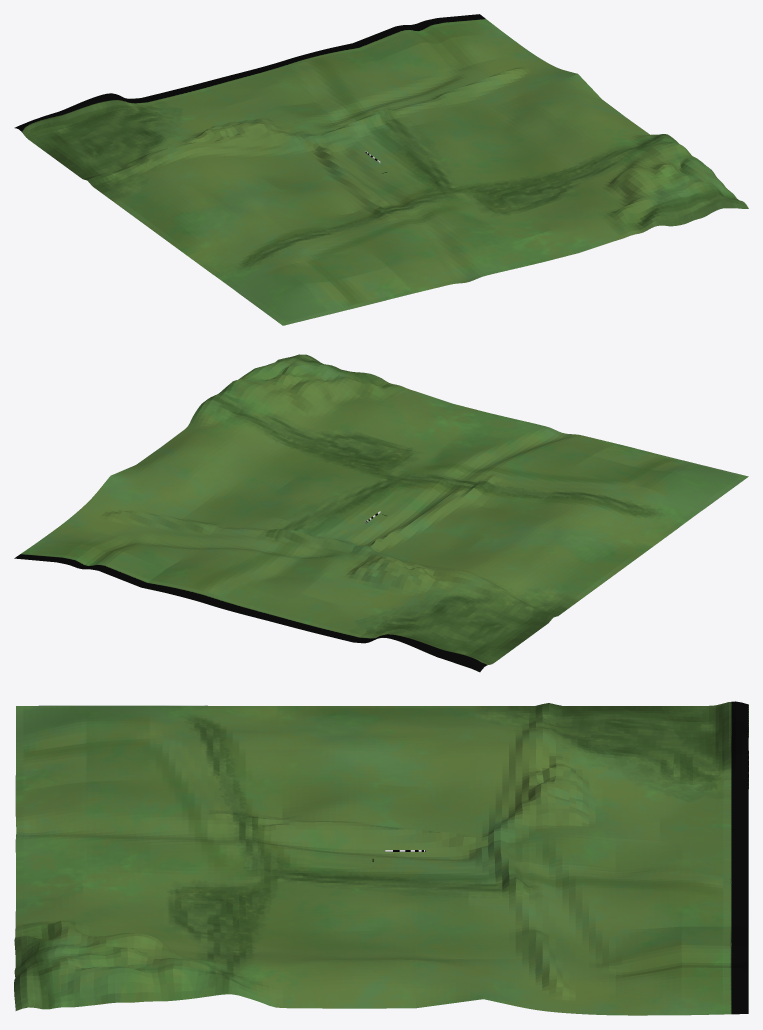
Rendered from validation-test-smaller.gltf.
The picture shows the model from 3 angles, top to bottom: view 1: azimuth 30°, elevation 25°; view 2: azimuth 150°, elevation 25°; view 3: azimuth 270°, elevation 25°; orthographic projection. The views are drawn at different scales.
Visible parts, largest first — view 1: Plane; view 2: Plane; view 3: Plane.
Boxes of the visible parts, <box> form: Plane: <box>14,14,748,325</box>; Plane: <box>14,354,748,672</box>; Plane: <box>14,701,748,1015</box>.
Size of the model in its own units: 997 by 64.32 by 995.
Materials: 1 (1 with a texture image).
